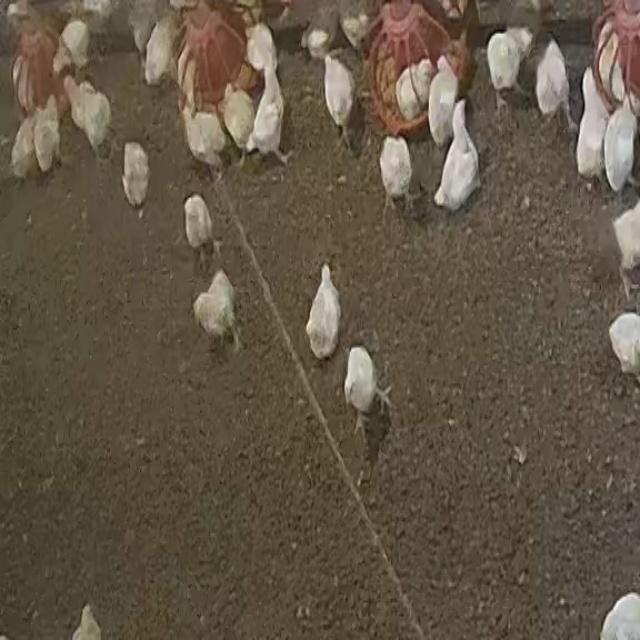chicken: (434, 101, 481, 213), (244, 59, 290, 169), (344, 346, 394, 436), (533, 36, 578, 130), (575, 69, 610, 186), (181, 102, 229, 180), (602, 97, 638, 194), (306, 265, 342, 361), (67, 78, 111, 154), (426, 56, 460, 150), (191, 277, 235, 345), (320, 52, 358, 130), (613, 188, 640, 296), (143, 11, 180, 88), (222, 83, 257, 156), (608, 313, 640, 391), (57, 5, 93, 74), (183, 194, 216, 268), (394, 60, 434, 121), (32, 98, 63, 176), (376, 140, 411, 209), (596, 27, 628, 100), (8, 114, 40, 183), (121, 141, 151, 213), (488, 31, 518, 95), (245, 21, 278, 78), (339, 4, 374, 52), (508, 0, 541, 50), (299, 12, 334, 57), (129, 0, 153, 53), (176, 38, 195, 96), (12, 54, 30, 110)
